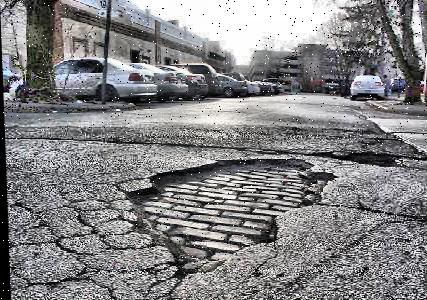pothole: (115, 155, 335, 278), (336, 150, 402, 168)
